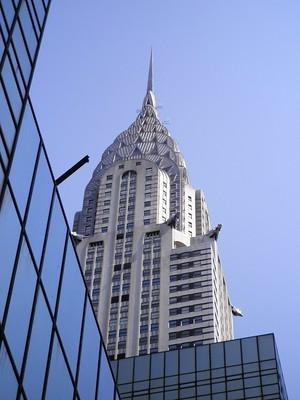building: (49, 105, 240, 363)
